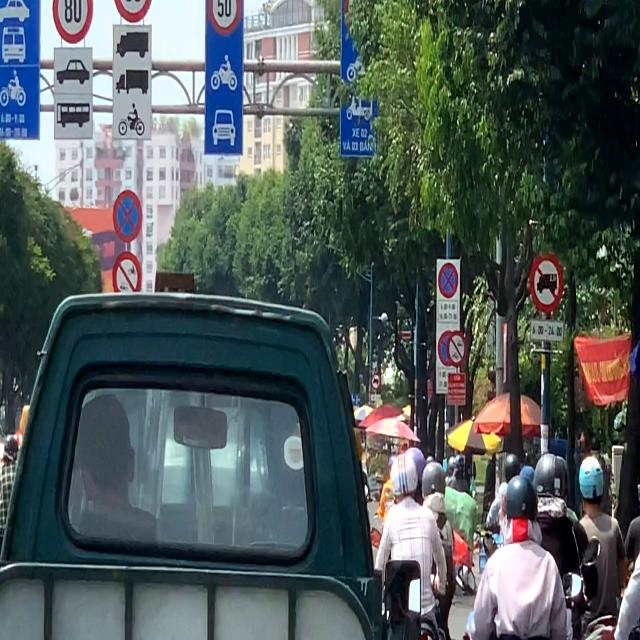P.106b: (530, 252, 564, 308)
P.130: (111, 188, 144, 245), (437, 260, 460, 302)
